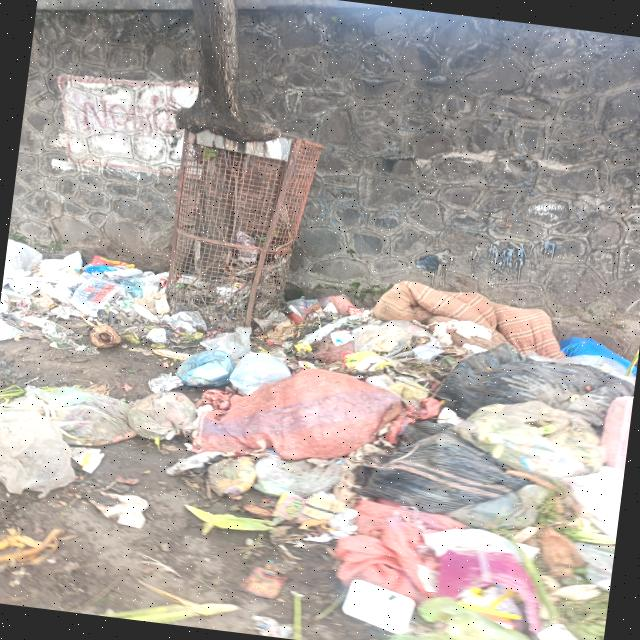garbage: (174, 276, 640, 640), (0, 233, 209, 506)
